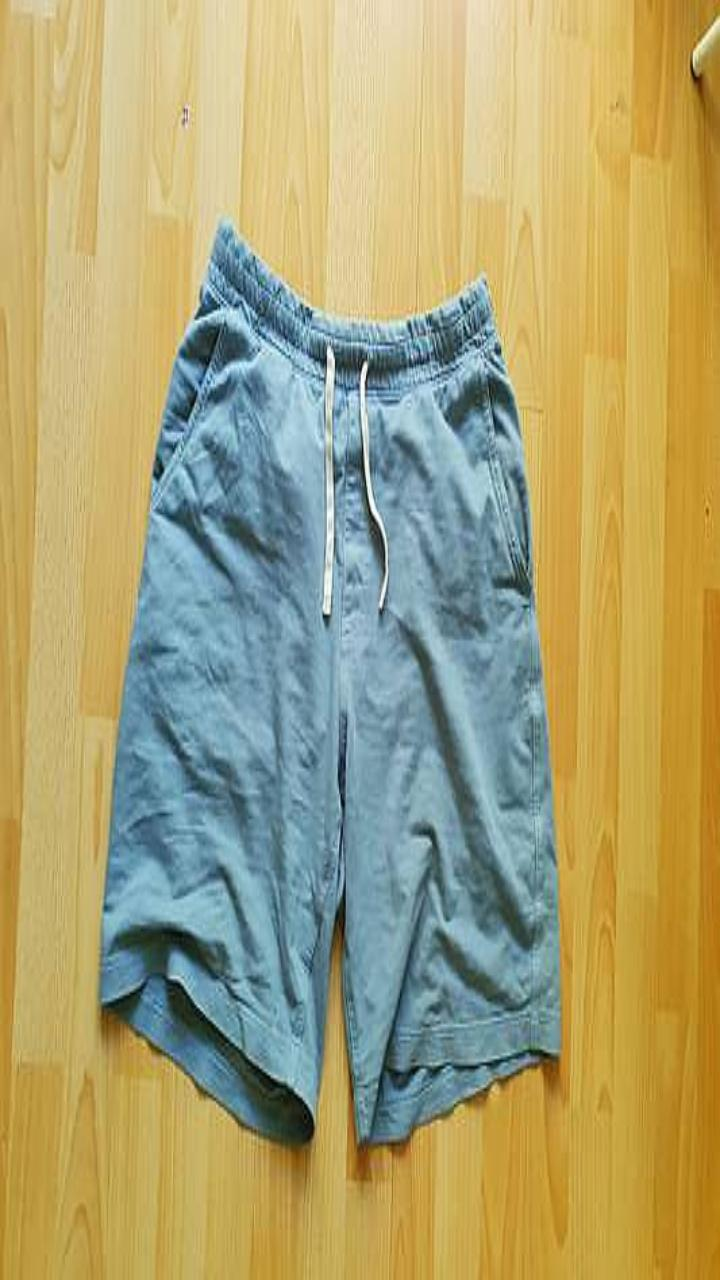Shorts: (100, 218, 559, 1143)
